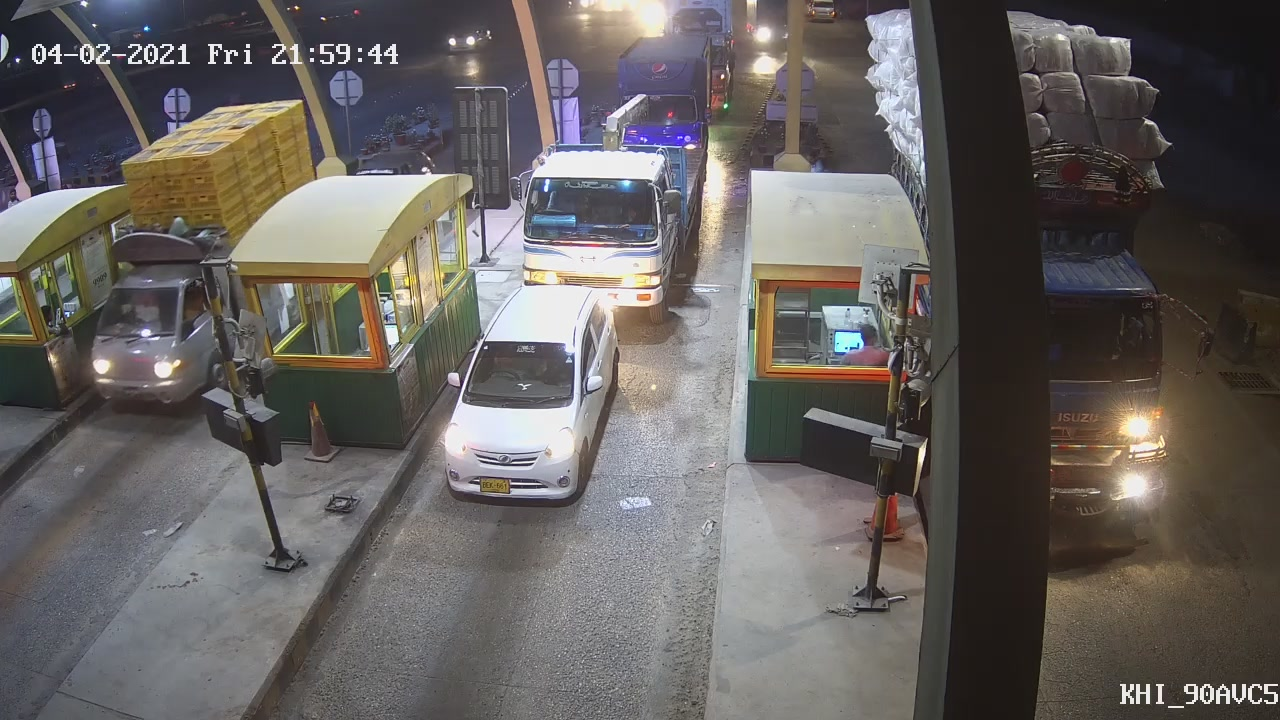F1: (436, 284, 623, 506)
F5: (504, 79, 711, 304)
